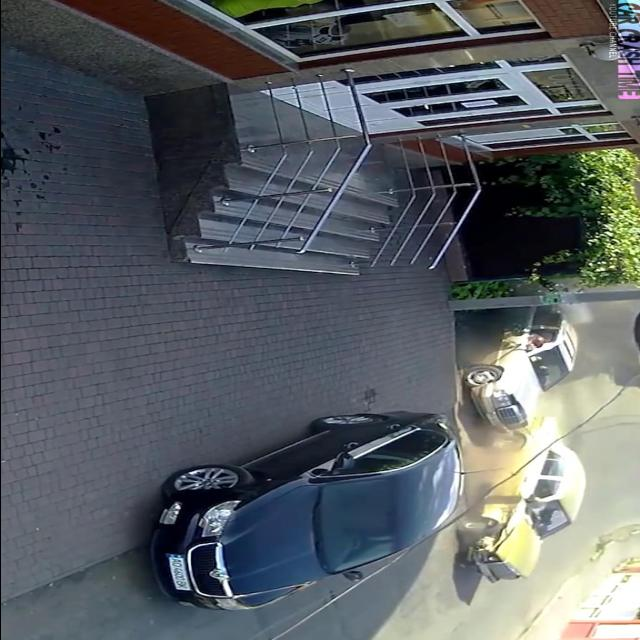accident: (459, 305, 597, 585)
